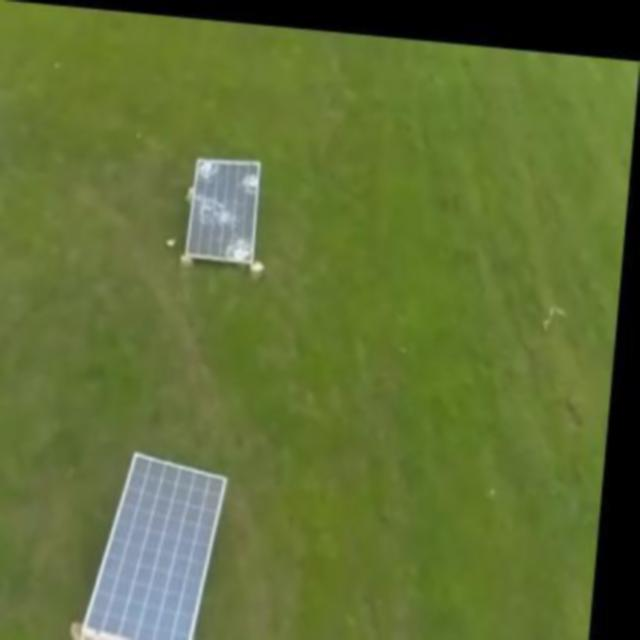cracked: (182, 152, 266, 272)
